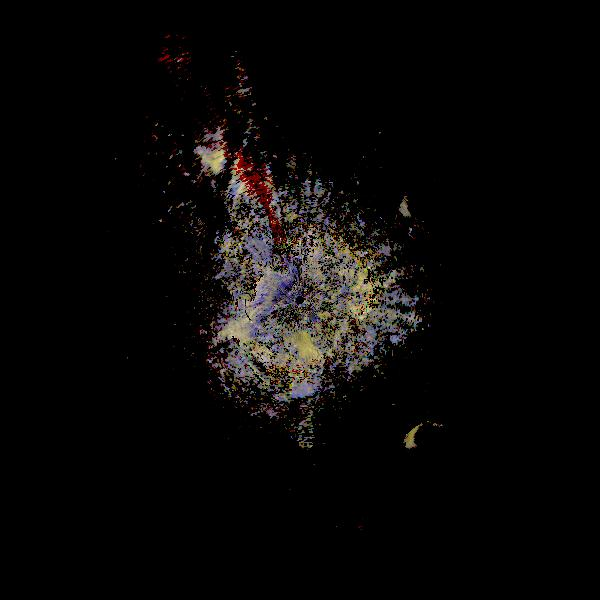roost: (383, 403, 506, 526), (250, 322, 349, 421), (390, 173, 477, 260)
